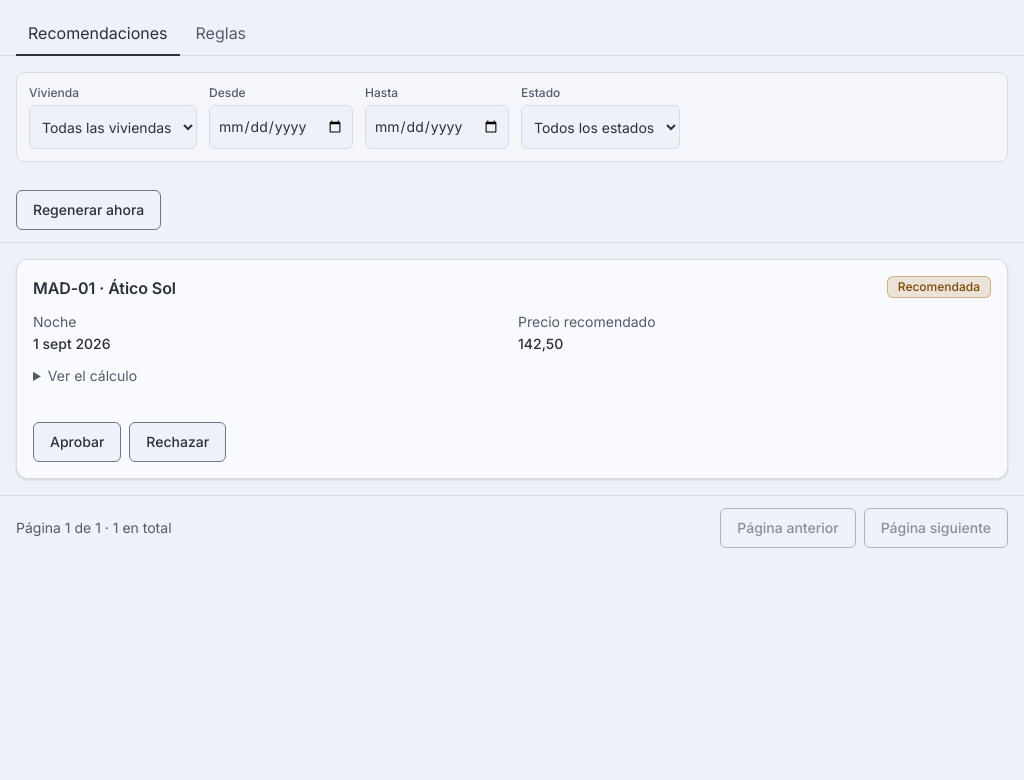
Test: PricingView — the live region (R3.6, R3.8, R4.2, R4.3) › shows the 409 copy of its own, distinct from the generic one (R3.6)
What coordinates should you click on to do the following:
click the button "Aprobar"
I would click on:
 (77, 442)
Its box is x1=33 y1=422 x2=121 y2=462.
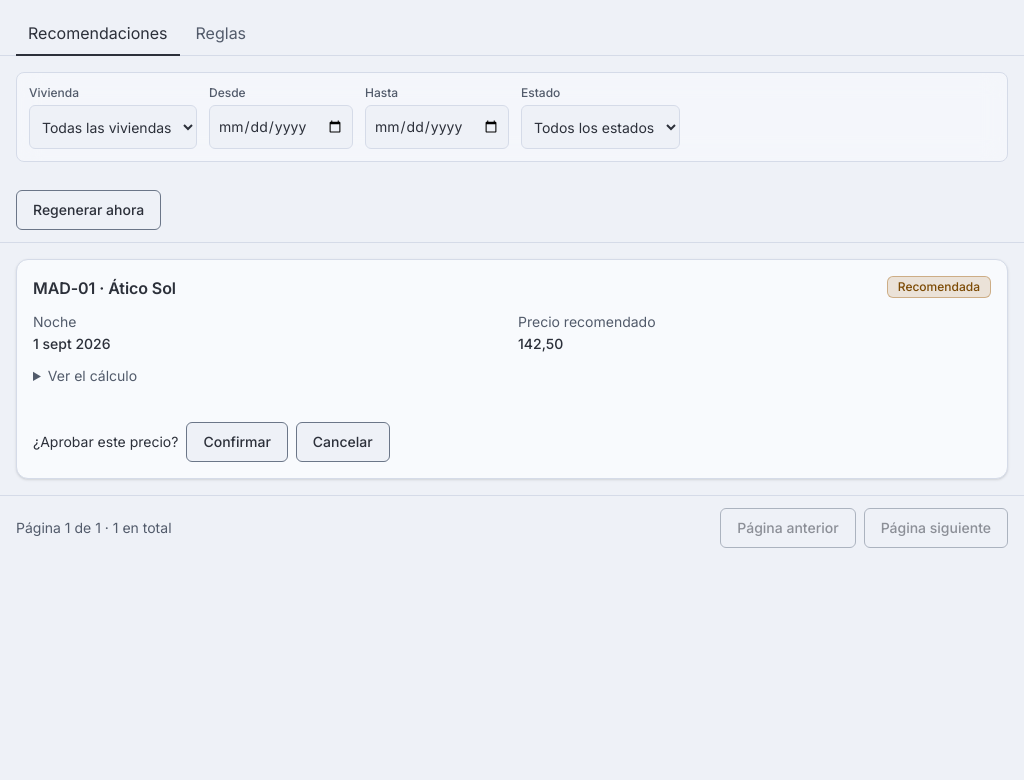
What coordinates should you click on to do the following:
click the button "Confirmar"
I would click on:
 (237, 442)
Its box is x1=186 y1=422 x2=288 y2=462.
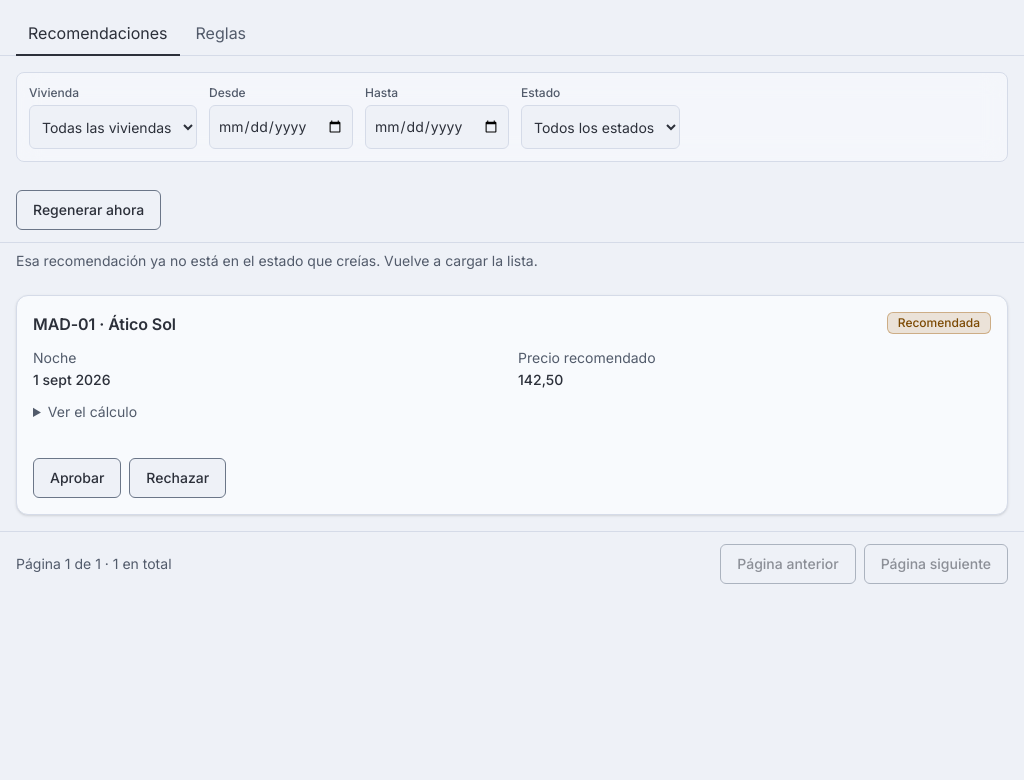
Check: the text "Esa recomendación ya no está en el estado que creías. Vuelve a cargar la lista." is shown, box x1=16 y1=252 x2=538 y2=269
